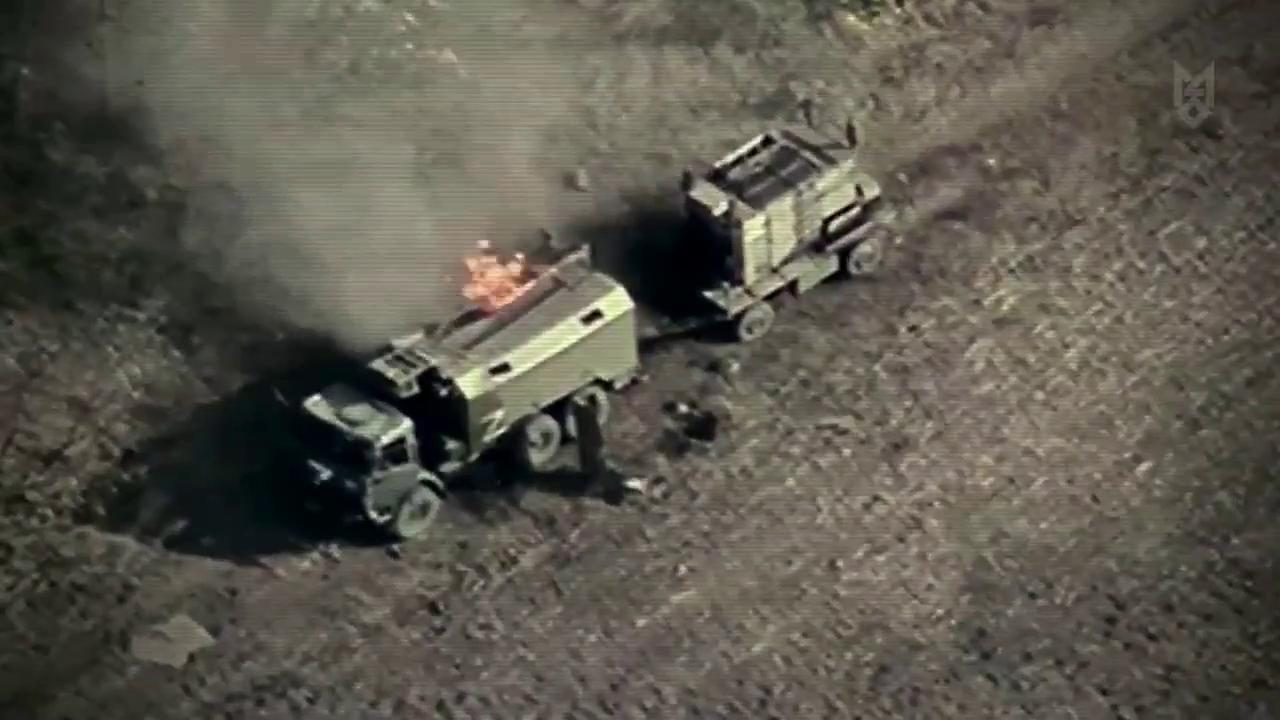tank: (292, 235, 647, 547), (671, 100, 900, 350)
